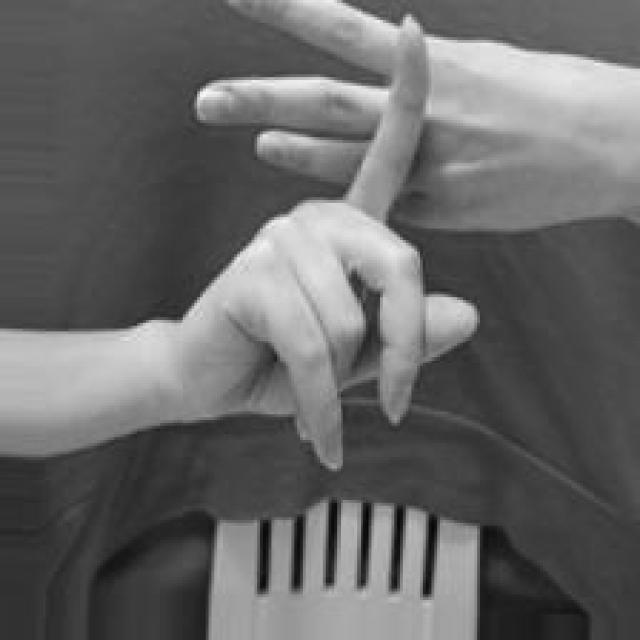E: (173, 0, 565, 476)
